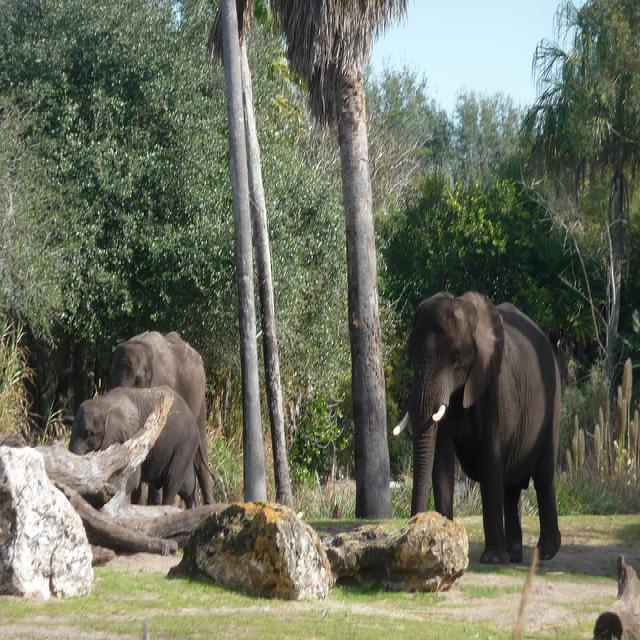Elephant: (392, 289, 562, 564), (68, 384, 215, 509)
